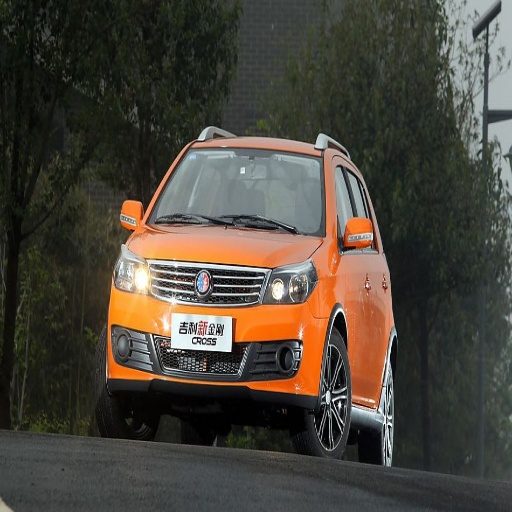front_bumper: (108, 259, 329, 395)
front_glass: (146, 146, 324, 235)
front_left_door: (333, 158, 374, 347)
front_right_light: (115, 252, 150, 293)
